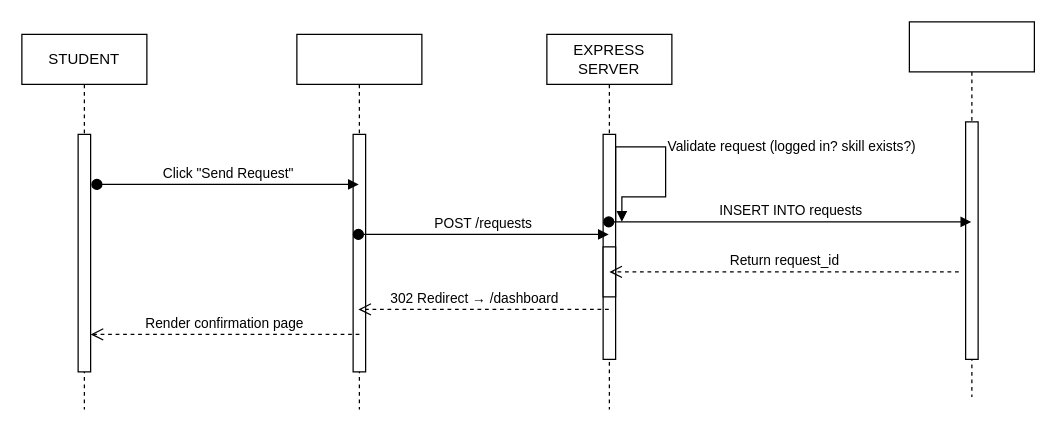
Image size: 1056x431. Some labels were removed from this diagram. The box of each missing label's shape, as (x1, y1, x2, y2) in pixels:
BROWSER: (296, 33, 422, 409)
MY SQL DB: (908, 21, 1034, 397)
